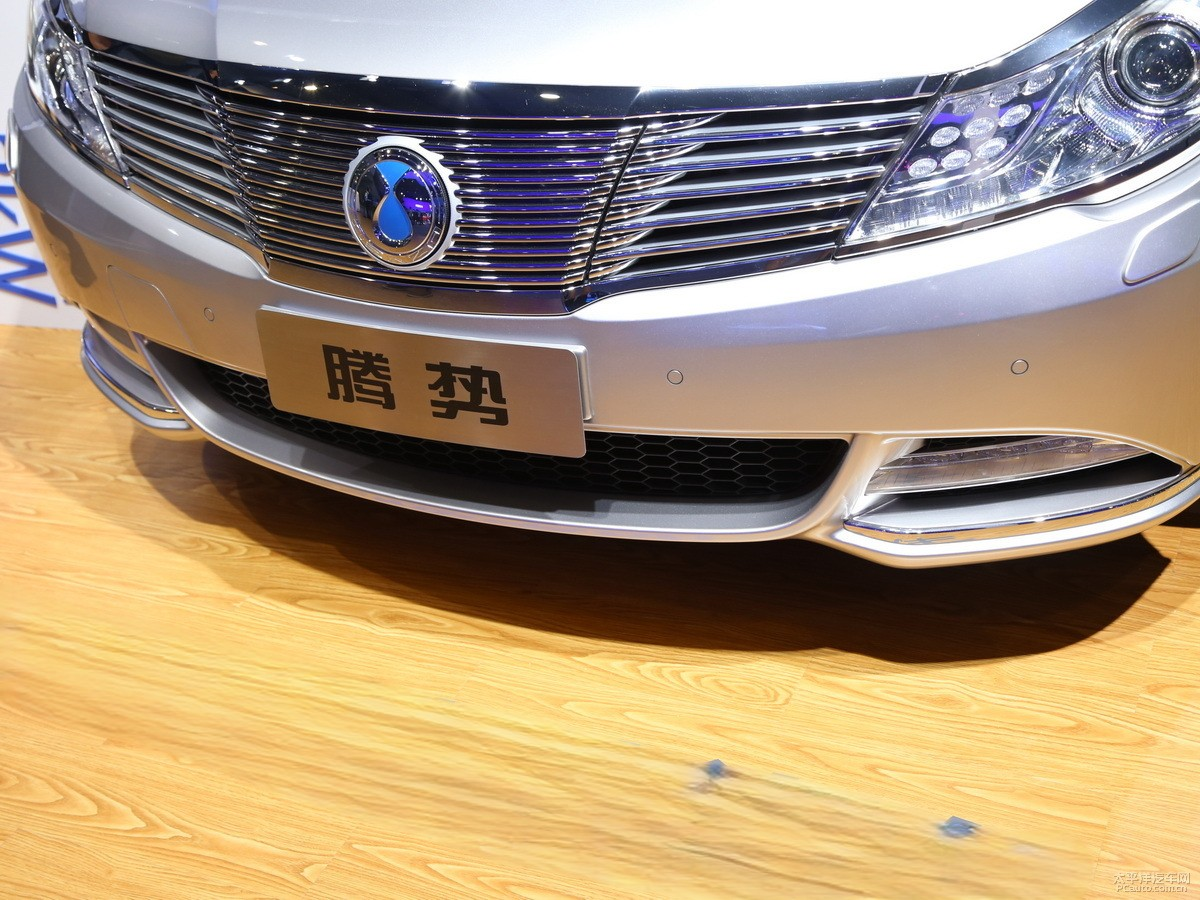DENZA: (347, 147, 445, 264)
